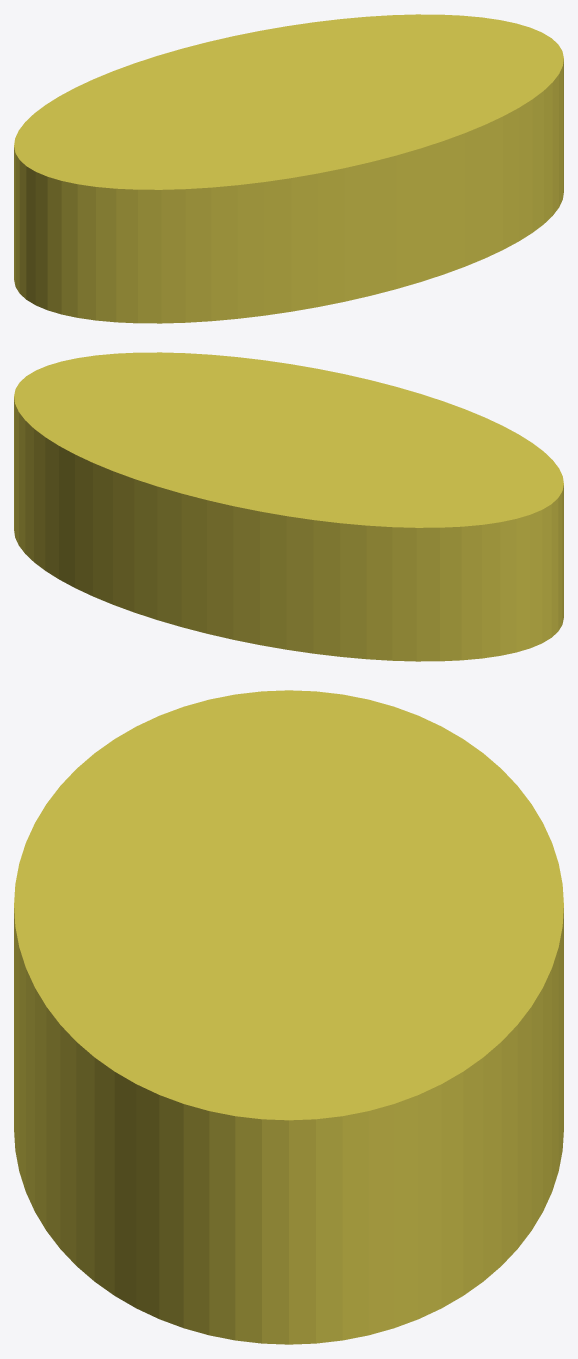
Rendered from homolog1-tampa-Câmara descontaminação do ar (oval) - COVID-19.glb.
The picture shows the model from 3 angles, top to bottom: view 1: azimuth 30°, elevation 25°; view 2: azimuth 150°, elevation 25°; view 3: azimuth 270°, elevation 25°; orthographic projection. The views are drawn at different scales.
Visible parts, largest first — view 1: Mesh_Mesh_head_geo.001_lambert2SG.001; view 2: Mesh_Mesh_head_geo.001_lambert2SG.001; view 3: Mesh_Mesh_head_geo.001_lambert2SG.001.
Part boxes in pixels (x1=…): Mesh_Mesh_head_geo.001_lambert2SG.001: x1=14, y1=14, x2=563, y2=323; Mesh_Mesh_head_geo.001_lambert2SG.001: x1=14, y1=352, x2=563, y2=661; Mesh_Mesh_head_geo.001_lambert2SG.001: x1=14, y1=690, x2=563, y2=1344.
Size of the model in its own units: 185 by 45 by 100.
